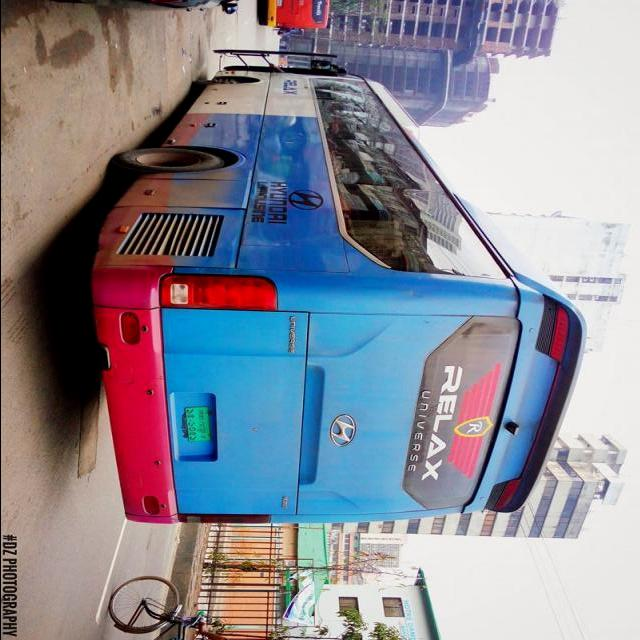bus: (87, 49, 589, 526)
